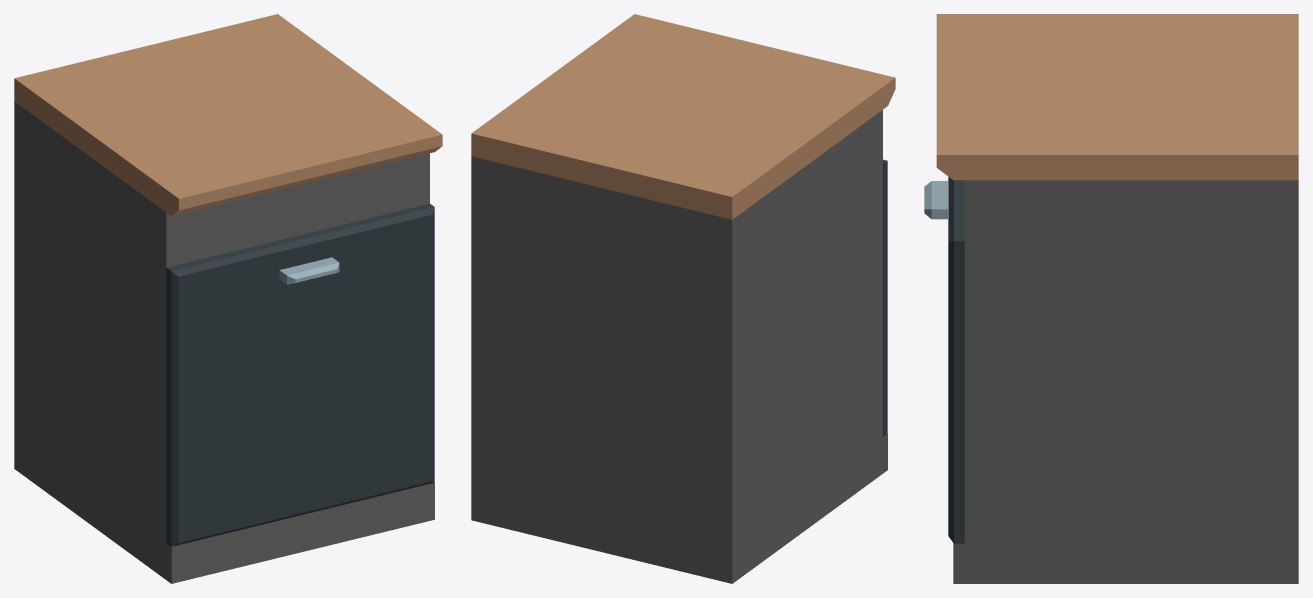
File: kitchen_cabinet.glb
The picture shows the model from 3 angles, left to right: view 1: azimuth 30°, elevation 25°; view 2: azimuth 150°, elevation 25°; view 3: azimuth 270°, elevation 25°; orthographic projection. The views are drawn at different scales.
Parts seen in each view (by area): view 1: KC-F600_Drawer_Front_SizeL_V3_D1C5, Low Poly Kitchen Cabinet V5, KCC-F600_Top_V3_Cabinet5, KCC_OpeningCover_V1_Front600_Cabinet5, KCC_Handle_V6_Medium_D1C5; view 2: Low Poly Kitchen Cabinet V5, KCC-F600_Top_V3_Cabinet5, KC-F600_Drawer_Front_SizeL_V3_D1C5; view 3: Low Poly Kitchen Cabinet V5, KCC-F600_Top_V3_Cabinet5, KC-F600_Drawer_Front_SizeL_V3_D1C5, KCC_Handle_V6_Medium_D1C5.
Part boxes in pixels (x1,y1,x2,y2): KC-F600_Drawer_Front_SizeL_V3_D1C5: (166,203,434,546); Low Poly Kitchen Cabinet V5: (14,101,434,583); KCC-F600_Top_V3_Cabinet5: (14,14,442,216); KCC_OpeningCover_V1_Front600_Cabinet5: (175,160,421,265); KCC_Handle_V6_Medium_D1C5: (279,257,339,284); Low Poly Kitchen Cabinet V5: (471,110,887,583); KCC-F600_Top_V3_Cabinet5: (471,14,895,219); KC-F600_Drawer_Front_SizeL_V3_D1C5: (882,159,887,436); Low Poly Kitchen Cabinet V5: (953,180,1298,583); KCC-F600_Top_V3_Cabinet5: (936,14,1298,180); KC-F600_Drawer_Front_SizeL_V3_D1C5: (948,177,964,543); KCC_Handle_V6_Medium_D1C5: (924,181,947,219).
Bounding box in the file's own units: 0.6 × 0.85 × 0.672.
Materials: 5 (5 with a texture image).
